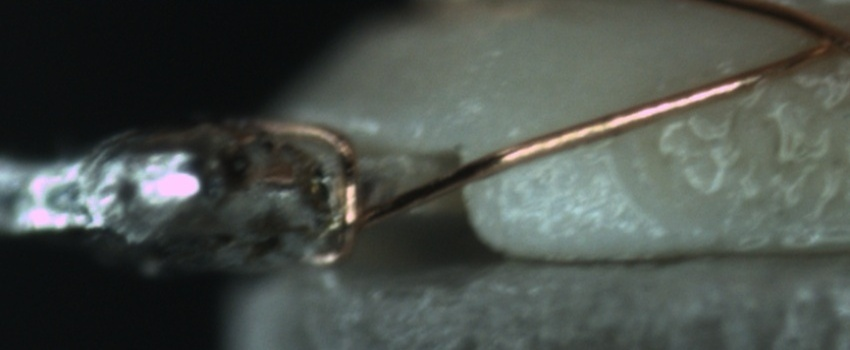CL: (792, 11, 850, 63)
TE: (192, 113, 372, 252)
